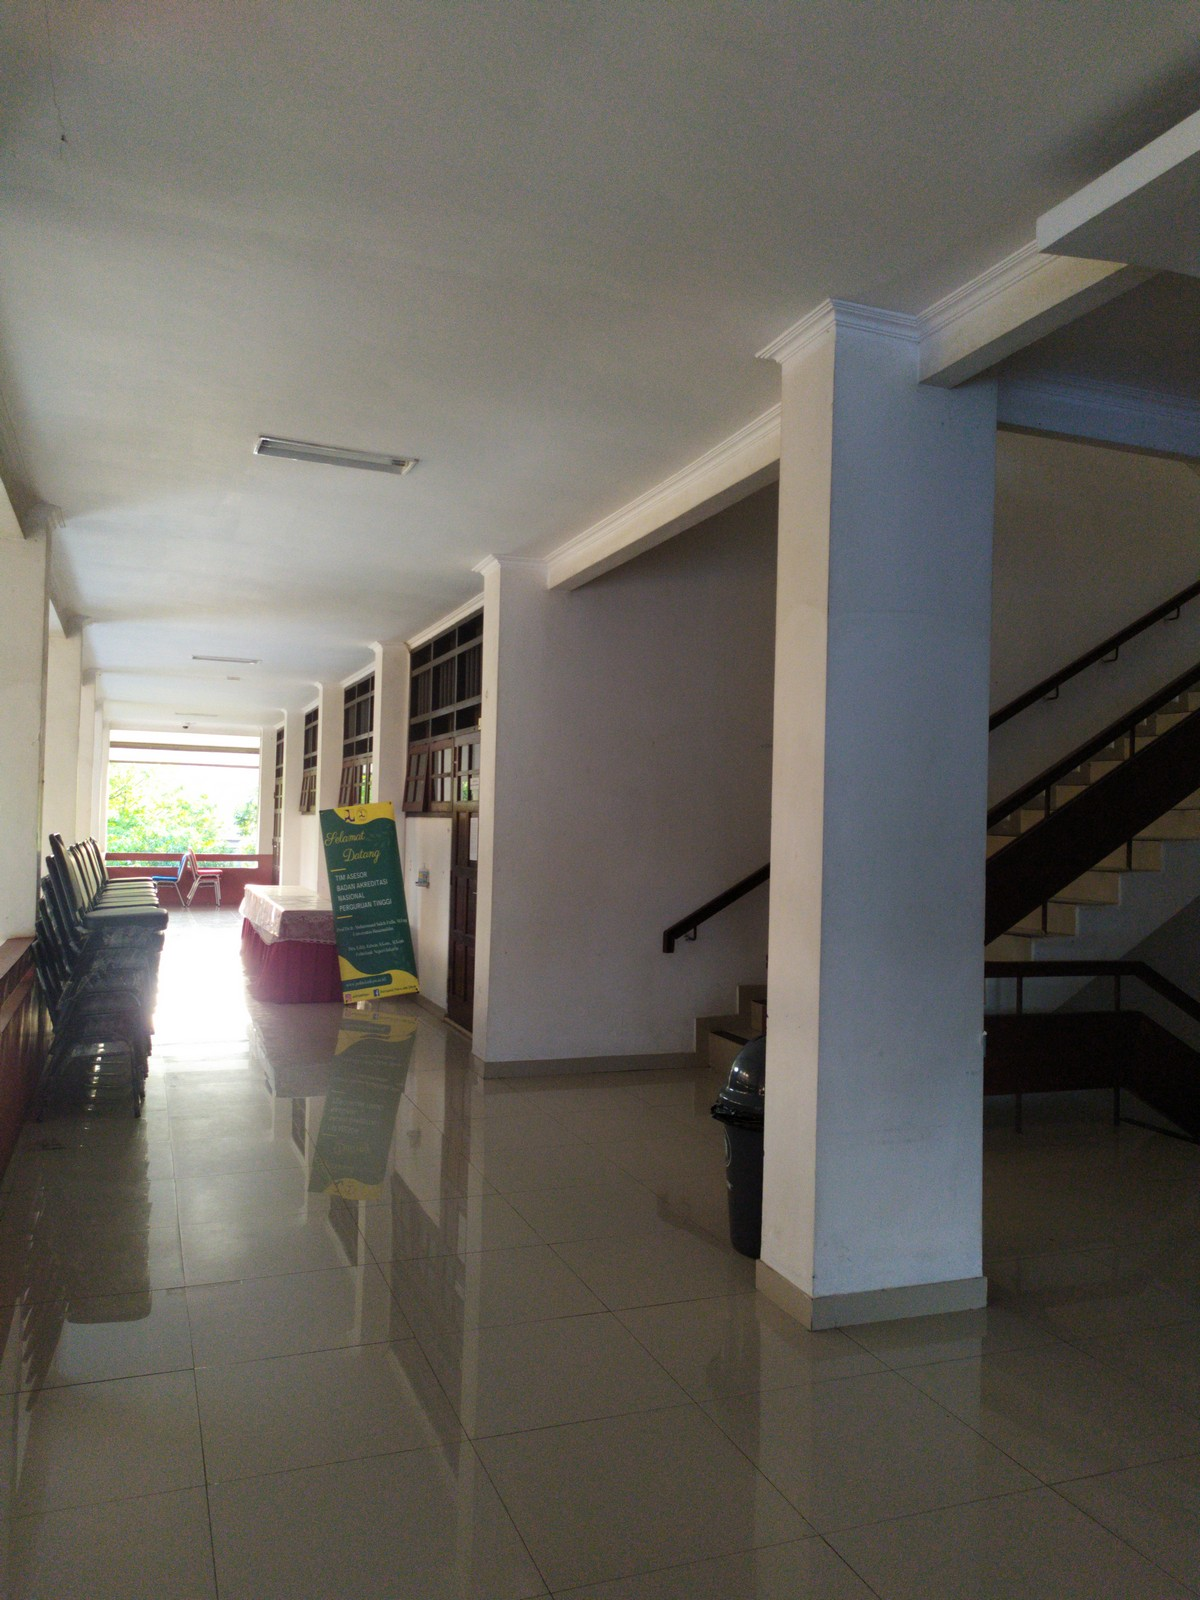concrete column: (744, 299, 1000, 1330), (310, 675, 350, 908), (366, 637, 415, 819)
